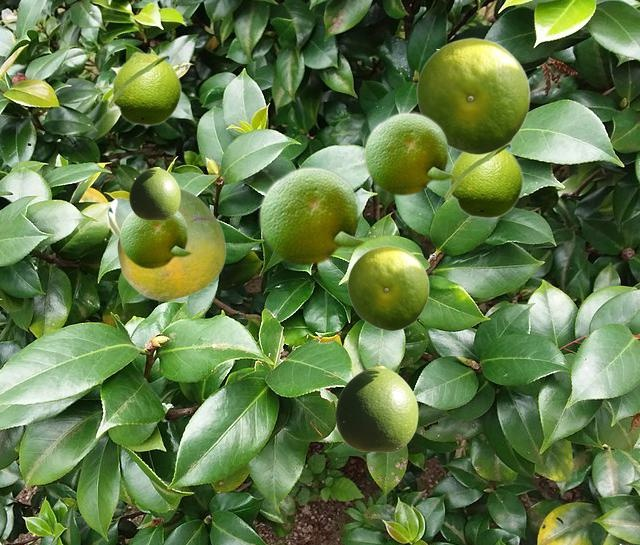dalandan: (105, 187, 225, 300), (416, 37, 529, 154), (257, 164, 366, 265), (362, 110, 454, 195), (335, 366, 417, 451), (347, 245, 428, 330), (443, 142, 523, 218), (106, 51, 181, 125), (118, 209, 192, 268), (129, 167, 179, 219)
